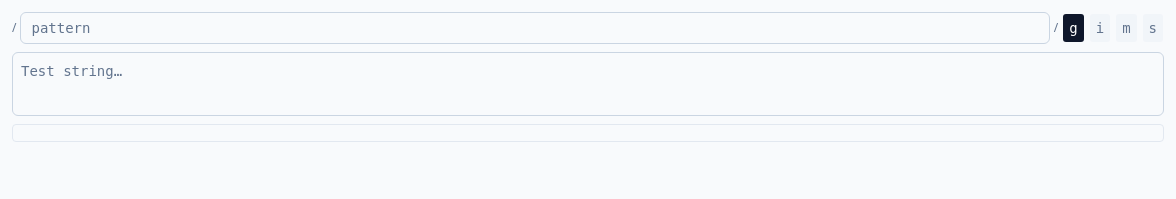
Test case: RegexTesterWidget › highlights every match and reports a count with the g flag
Click the field with placeholder "pattern".
click(535, 28)  # box [20,12,1050,44]
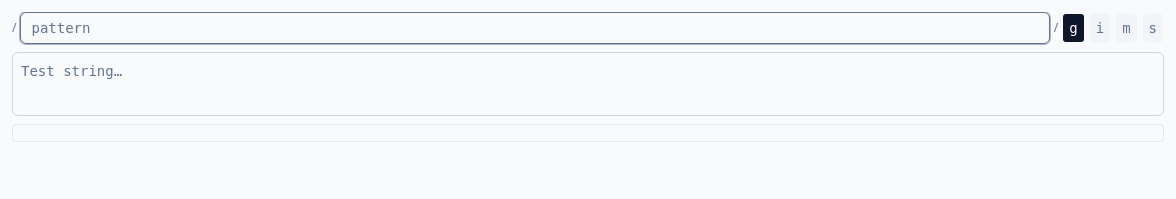
Type keys "cat"
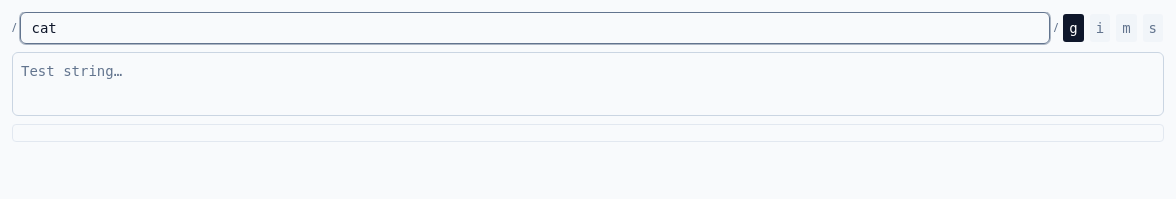
Click the text box with placeholder "Test string…".
click(588, 84)  # box [12,52,1164,116]
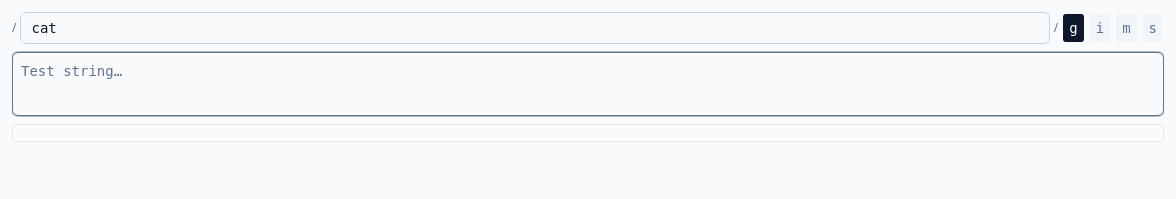
Type keys "cat dog cat"
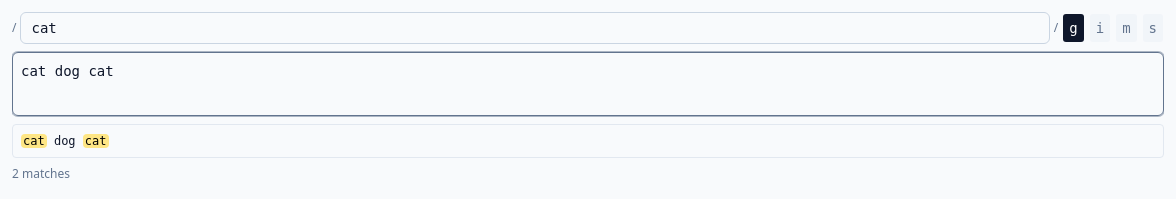
Result: the text "2 matches" is shown at [12,165,70,182]
Result: the text "cat" is shown 2 times at [21,134,47,148]; [83,134,108,148]
